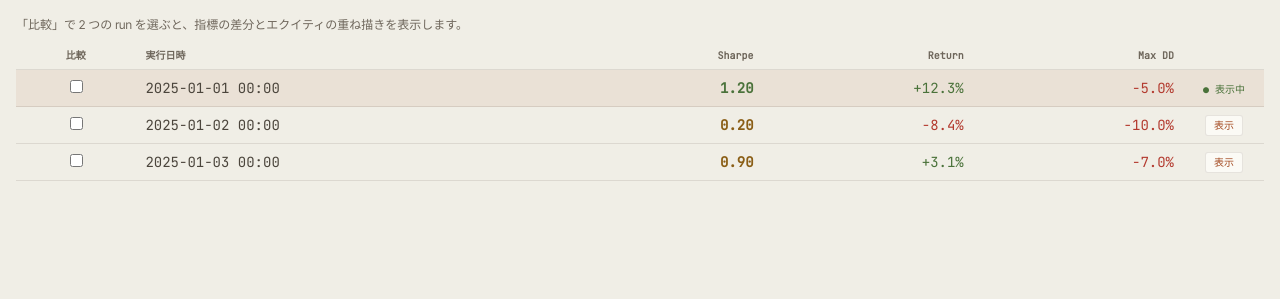
Test: RunHistoryTab の run 比較選択 (issue #369) › 2 run を選択すると比較ビューが表示され、3 つ目は選択できない
What coordinates should you click on to do the following:
click the checkbox named "2025-01-01 00:00 の run を比較対象に選択"
I would click on:
 (76, 86)
Its box is left=70, top=80, right=83, bottom=93.
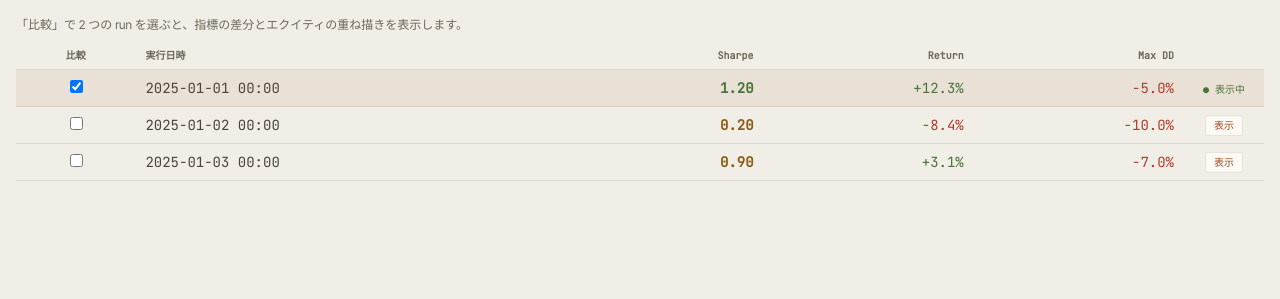
What coordinates should you click on to do the following:
click the checkbox named "2025-01-02 00:00 の run を比較対象に選択"
I would click on:
 (76, 124)
Its box is left=70, top=117, right=83, bottom=130.
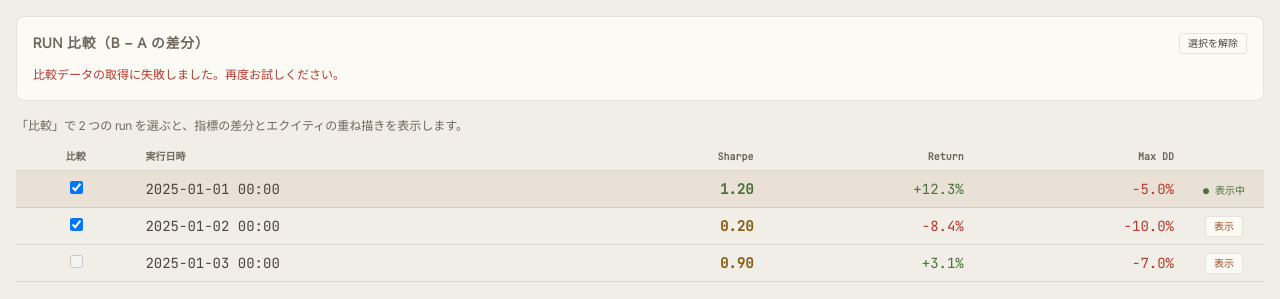
Now the element with test id "run-compare-view" is shown, box left=16, top=16, right=1264, bottom=101
Now the checkbox named "2025-01-03 00:00 の run を比較対象に選択" is disabled, box left=70, top=255, right=83, bottom=268
